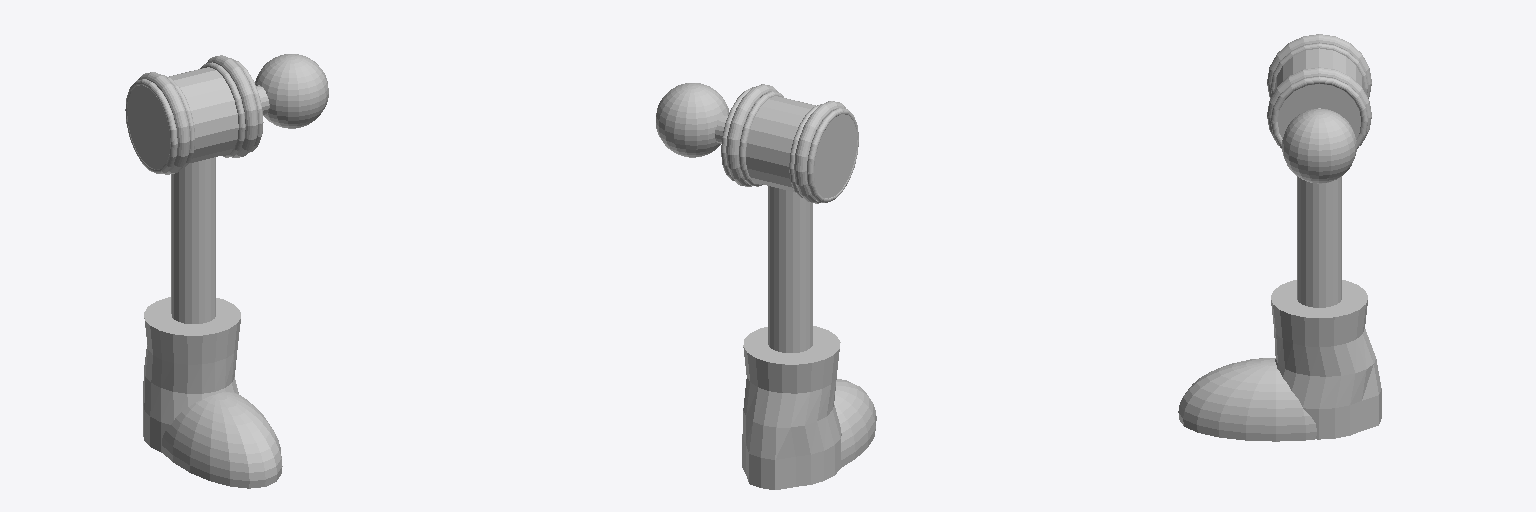
File: CylinderBotRightLeg.obj
The picture shows the model from 3 angles: view 1: azimuth 30°, elevation 25°; view 2: azimuth 150°, elevation 25°; view 3: azimuth 270°, elevation 25°; orthographic projection.
Visible parts, largest first — view 1: polySurface21 polySurface28; view 2: polySurface21 polySurface28; view 3: polySurface21 polySurface28.
Boxes of the visible parts, x1,y1,x2,y2 form: polySurface21 polySurface28: [125, 54, 328, 488]; polySurface21 polySurface28: [656, 83, 876, 489]; polySurface21 polySurface28: [1178, 34, 1381, 441].
Bounding box in the file's own units: 5.4 × 10.82 × 5.41.